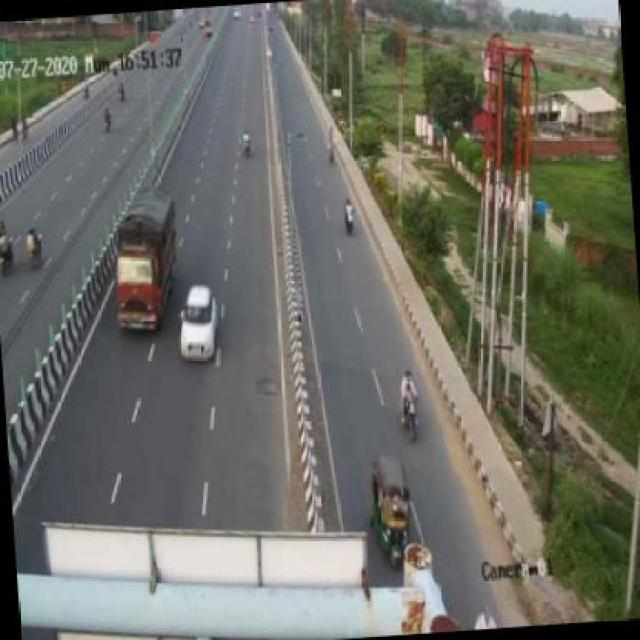car: (174, 286, 231, 366)
